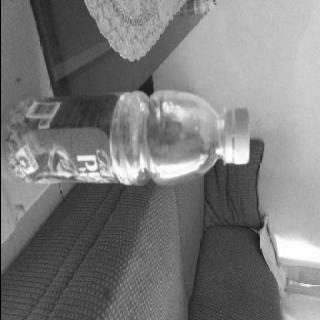plastic_bottles: (0, 88, 250, 190)
